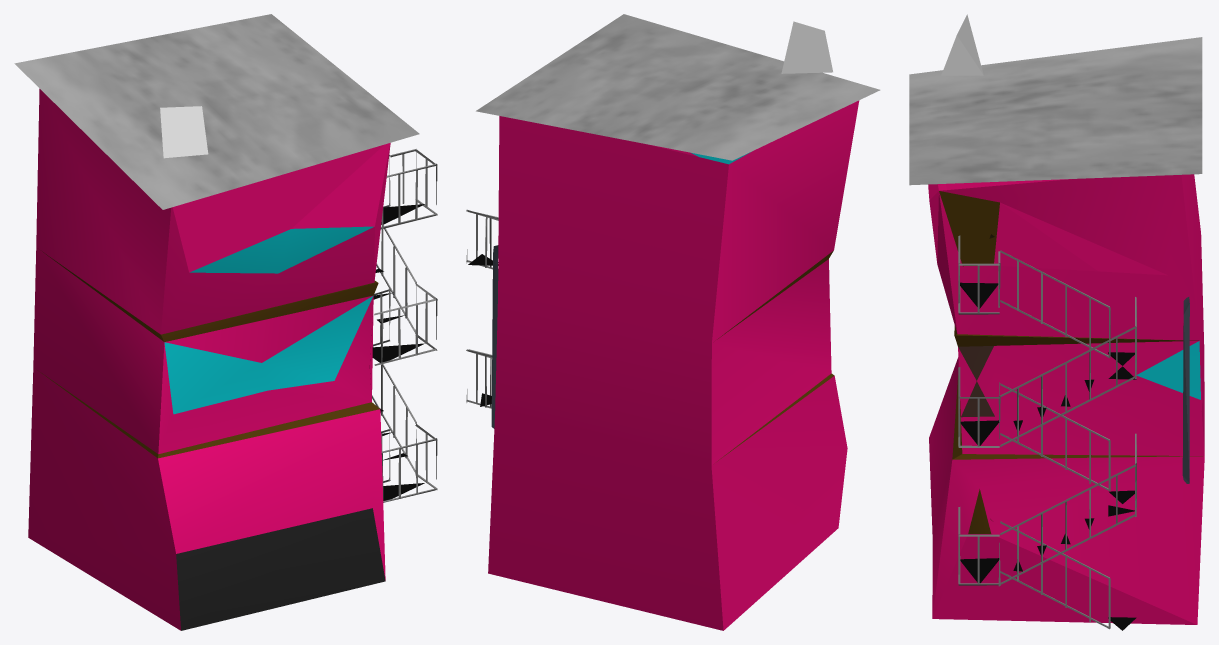
Rendered from PredioTorto-RosaLOD2.fbx.
The picture shows the model from 3 angles, left to right: view 1: azimuth 30°, elevation 25°; view 2: azimuth 150°, elevation 25°; view 3: azimuth 270°, elevation 25°; orthographic projection.
Visible parts, largest first — view 1: Predio3AndaresLOD2; view 2: Predio3AndaresLOD2; view 3: Predio3AndaresLOD2.
Boxes of the visible parts, <box> form: Predio3AndaresLOD2: <box>14,14,437,630</box>; Predio3AndaresLOD2: <box>466,14,880,630</box>; Predio3AndaresLOD2: <box>909,14,1204,630</box>.
Size of the model in its own units: 1025 by 1669 by 885.
